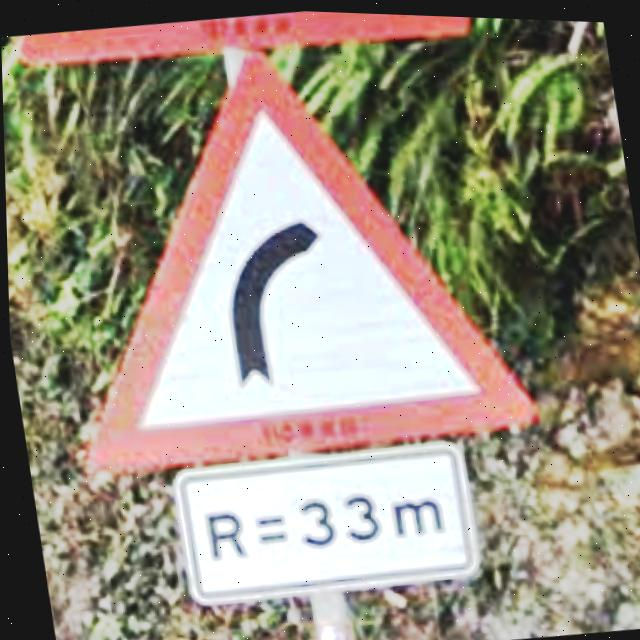rightbend: (87, 50, 535, 472)
